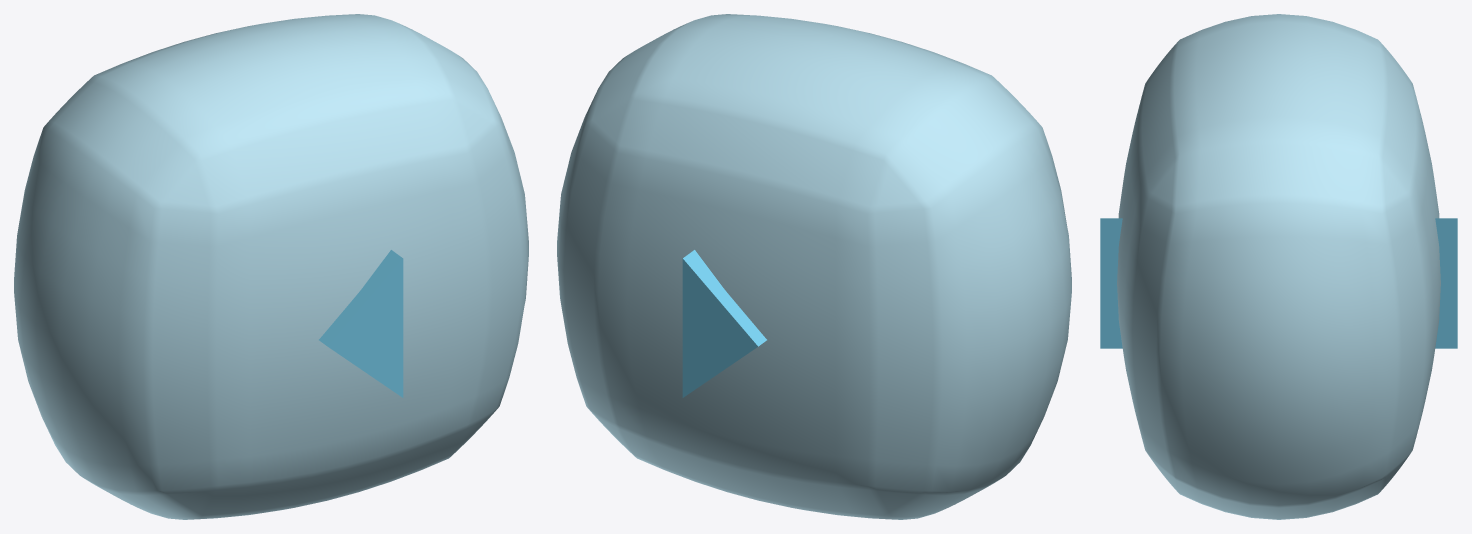
File: play_button_animation_frame12.fbx
3 views of the same model, side by side, from view 1: azimuth 30°, elevation 25°; view 2: azimuth 150°, elevation 25°; view 3: azimuth 270°, elevation 25° (orthographic). The views are drawn at different scales.
Visible parts, largest first — view 1: Button, Triangle; view 2: Button, Triangle; view 3: Button, Triangle.
Part boxes in pixels (x1,y1,x2,y2): Button: [14, 14, 528, 519]; Triangle: [319, 250, 403, 397]; Button: [557, 14, 1071, 519]; Triangle: [682, 250, 766, 397]; Button: [1117, 14, 1440, 519]; Triangle: [1100, 218, 1457, 348].
Size of the model in its own units: 349 by 315 by 245.
